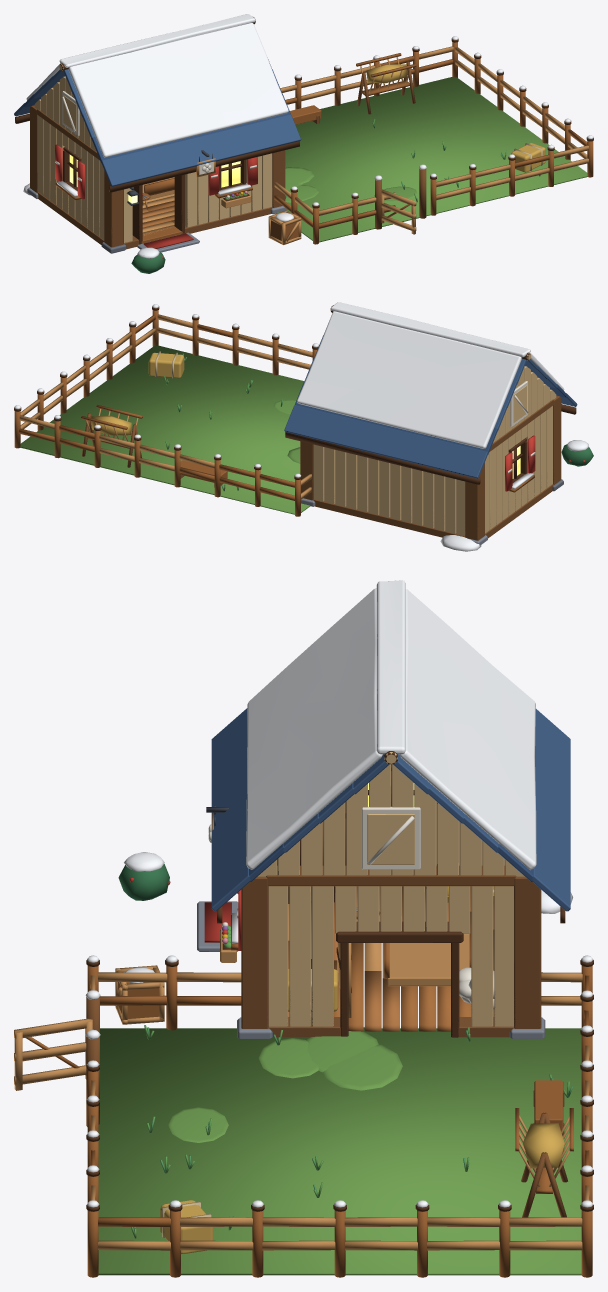
The model's file is sheepfold.glb.
3 renders of one model, top to bottom at view 1: azimuth 30°, elevation 25°; view 2: azimuth 150°, elevation 25°; view 3: azimuth 270°, elevation 25°, orthographic. The views are drawn at different scales.
Visible parts, largest first — view 1: roof, floor, exterior, walls, walls_low, interior; view 2: roof, floor, walls, exterior, walls_low; view 3: floor, roof, walls, exterior, interior, walls_low.
Part boxes in pixels (left/top/right/bottom): roof: left=14, top=14, right=301, bottom=192; floor: left=137, top=76, right=587, bottom=252; exterior: left=23, top=36, right=593, bottom=273; walls: left=27, top=105, right=287, bottom=253; walls_low: left=31, top=172, right=279, bottom=246; interior: left=142, top=177, right=174, bottom=209; roof: left=284, top=302, right=577, bottom=484; floor: left=20, top=345, right=310, bottom=514; walls: left=300, top=395, right=563, bottom=545; exterior: left=14, top=304, right=593, bottom=551; walls_low: left=301, top=464, right=560, bottom=540; floor: left=98, top=886, right=581, bottom=1275; roof: left=211, top=580, right=570, bottom=923; walls: left=206, top=764, right=545, bottom=1038; exterior: left=14, top=852, right=593, bottom=1277; interior: left=288, top=886, right=494, bottom=1011; walls_low: left=241, top=847, right=541, bottom=1037.
Size of the model in its own units: 11.18 by 3.97 by 6.81.
